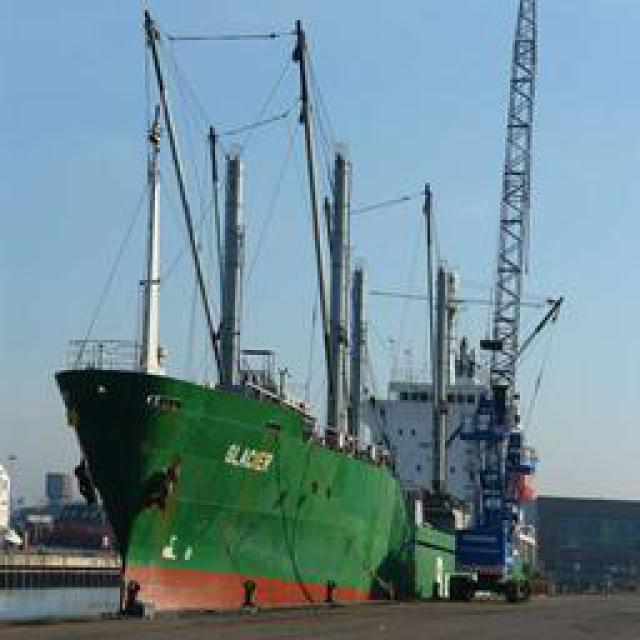Ship: (51, 8, 556, 613)
